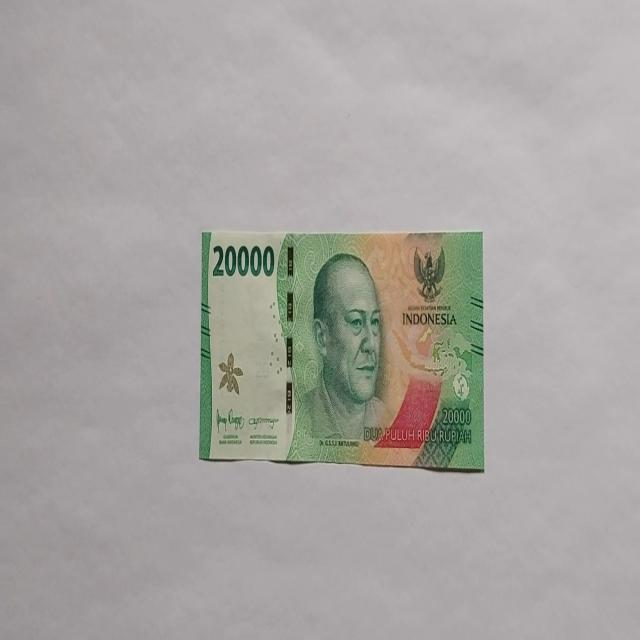dua puluh ribu rupiah: (198, 228, 484, 470), (286, 250, 396, 462)
